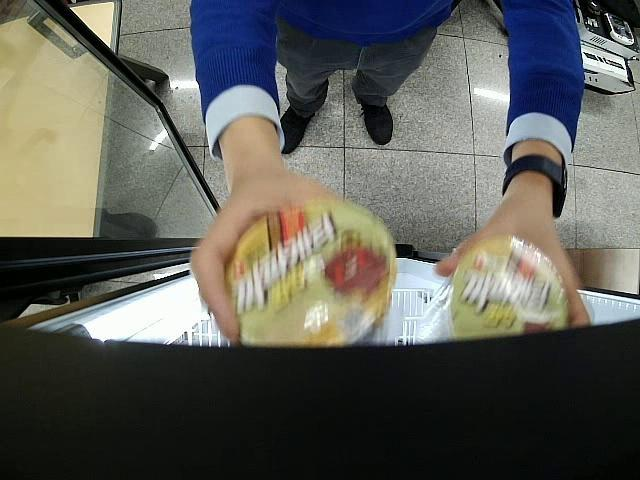04_chapagetti_S: (227, 199, 396, 346), (418, 237, 568, 345)
